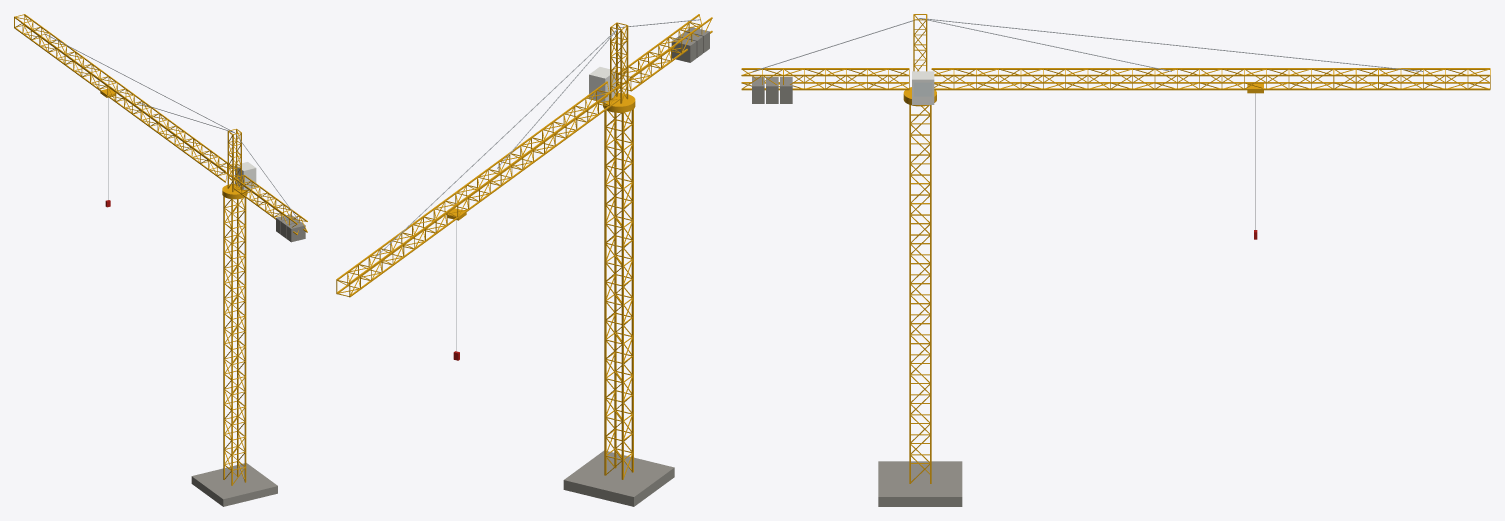
File: plant.crane.tower.glb
The picture shows the model from 3 angles, left to right: view 1: azimuth 30°, elevation 25°; view 2: azimuth 150°, elevation 25°; view 3: azimuth 270°, elevation 25°; orthographic projection. The views are drawn at different scales.
Parts seen in each view (by area): view 1: jib__plant_yellow, mast__plant_yellow, base__concrete, slew__plant_yellow, jib__concrete, jib__steel_galvanised, slew__paint_white; view 2: mast__plant_yellow, jib__plant_yellow, base__concrete, slew__plant_yellow, jib__concrete, jib__steel_galvanised, slew__paint_white; view 3: jib__plant_yellow, mast__plant_yellow, base__concrete, jib__steel_galvanised, jib__concrete.
Part boxes in pixels (x1,y1,x2,y2): jib__plant_yellow: (14,14,307,234); mast__plant_yellow: (223,196,246,485); base__concrete: (191,463,277,506); slew__plant_yellow: (222,128,247,199); jib__concrete: (276,214,305,242); jib__steel_galvanised: (45,34,298,219); slew__paint_white: (235,162,256,189); mast__plant_yellow: (604,109,633,479); jib__plant_yellow: (336,14,712,297); base__concrete: (563,450,674,506); slew__plant_yellow: (603,22,635,112); jib__concrete: (671,27,709,62); jib__steel_galvanised: (375,19,700,257); slew__paint_white: (589,67,615,102); jib__plant_yellow: (741,68,1490,90); mast__plant_yellow: (909,105,931,483); base__concrete: (878,461,962,506); jib__steel_galvanised: (752,18,1423,71); jib__concrete: (752,77,792,103).
Size of the model in its own units: 6 by 37.33 by 53.64.
